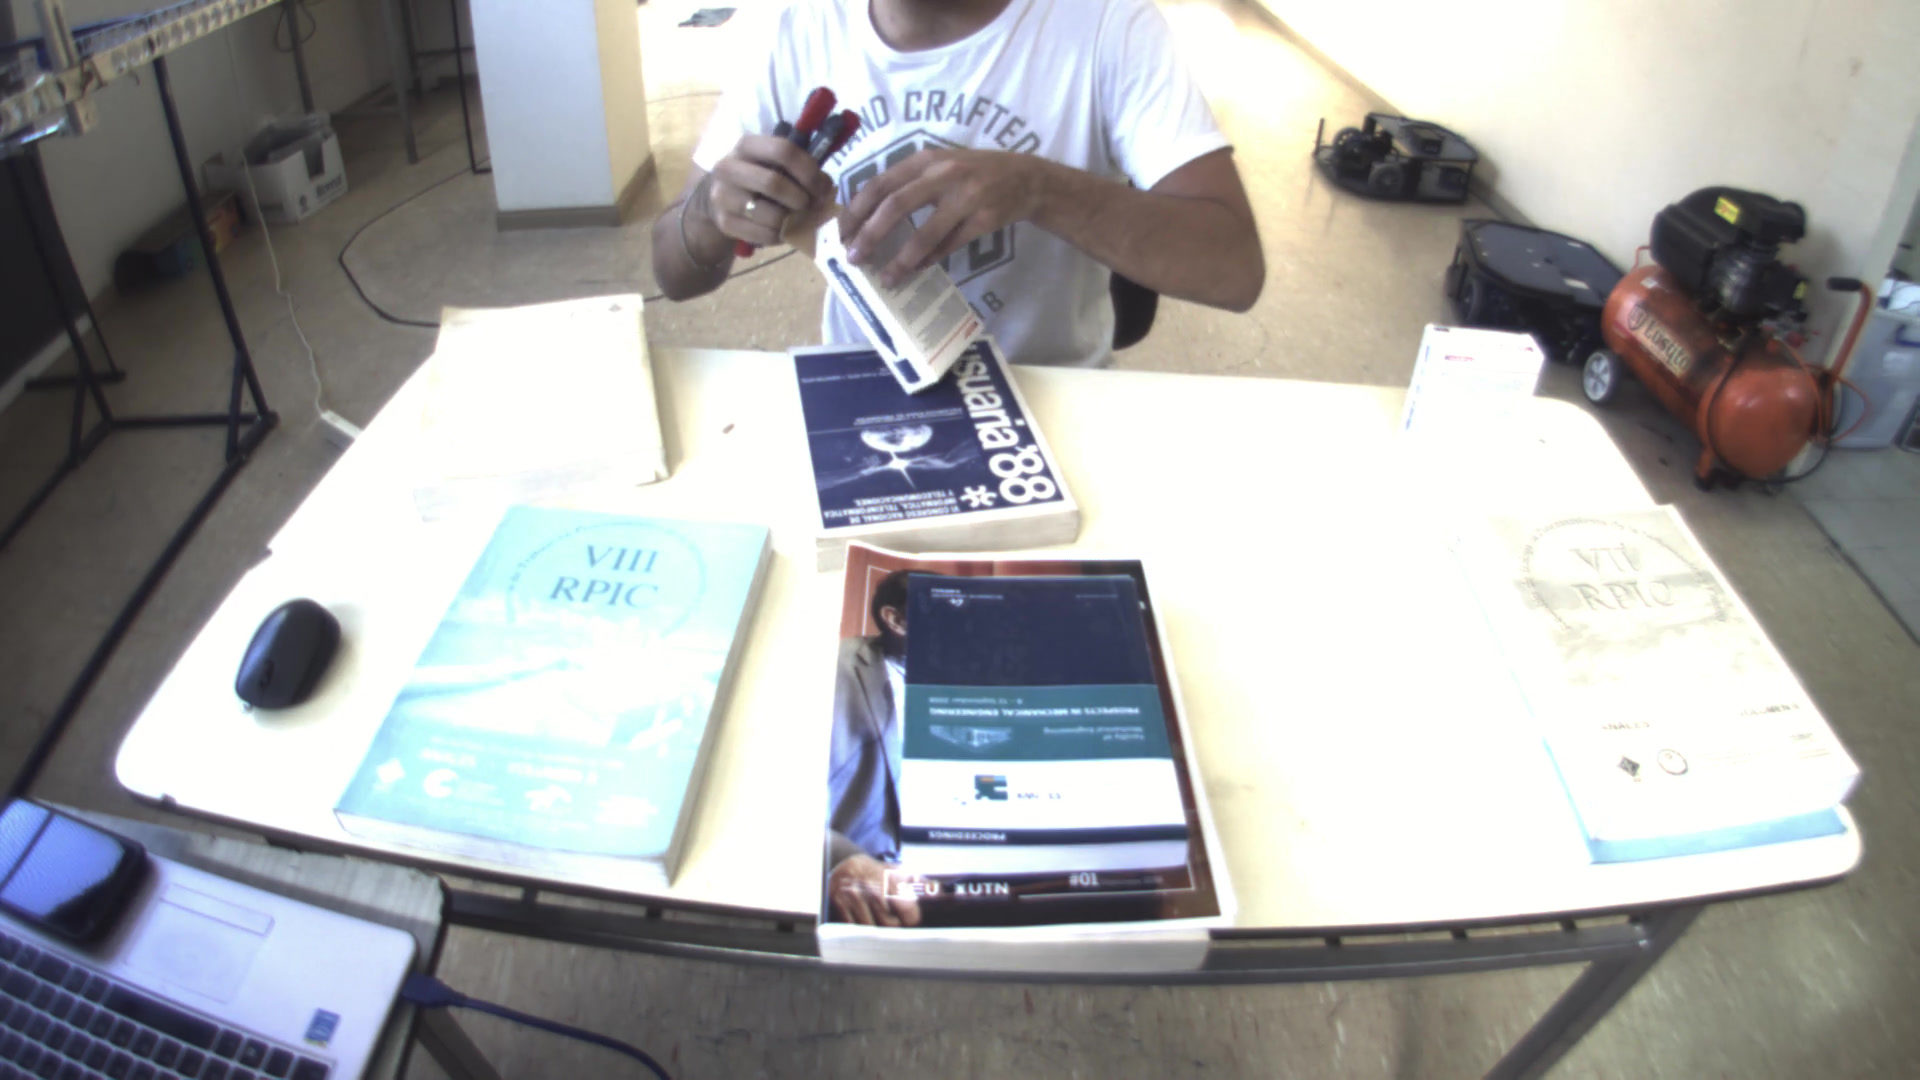hand: (831, 127, 1040, 266), (692, 131, 831, 251)
